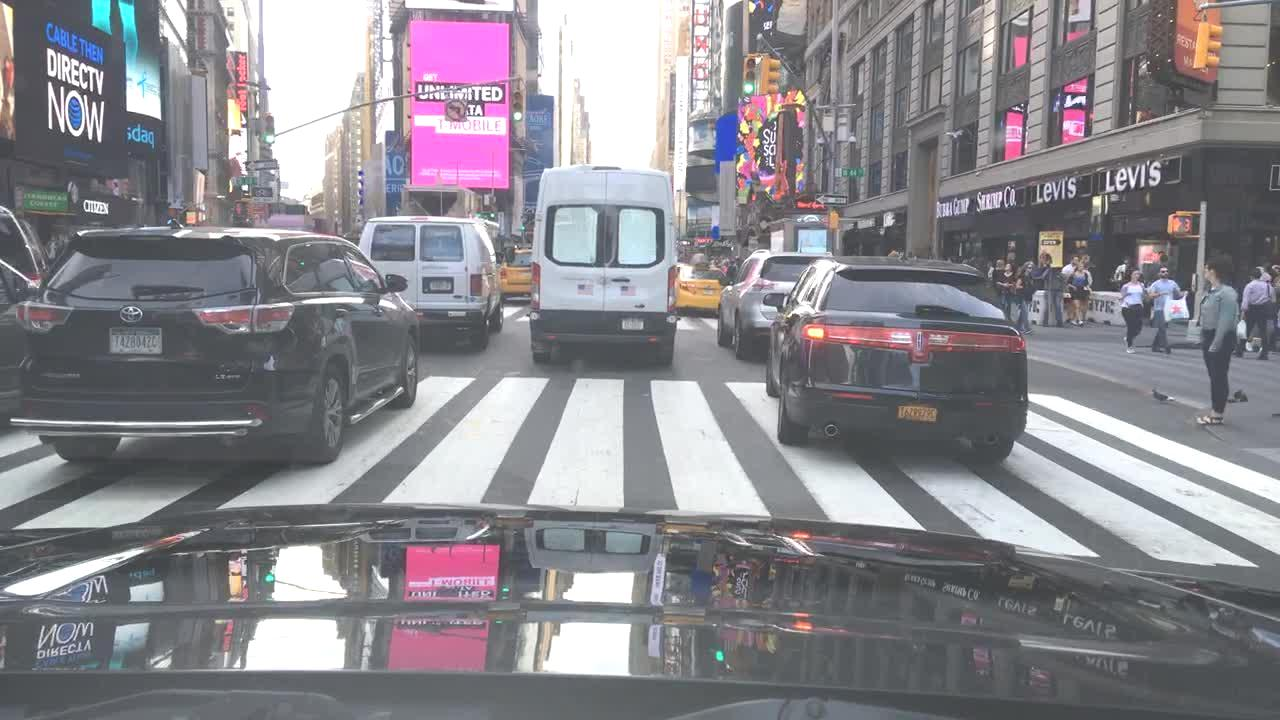Toyota: (114, 303, 147, 328)
lincoln: (912, 329, 926, 356)
